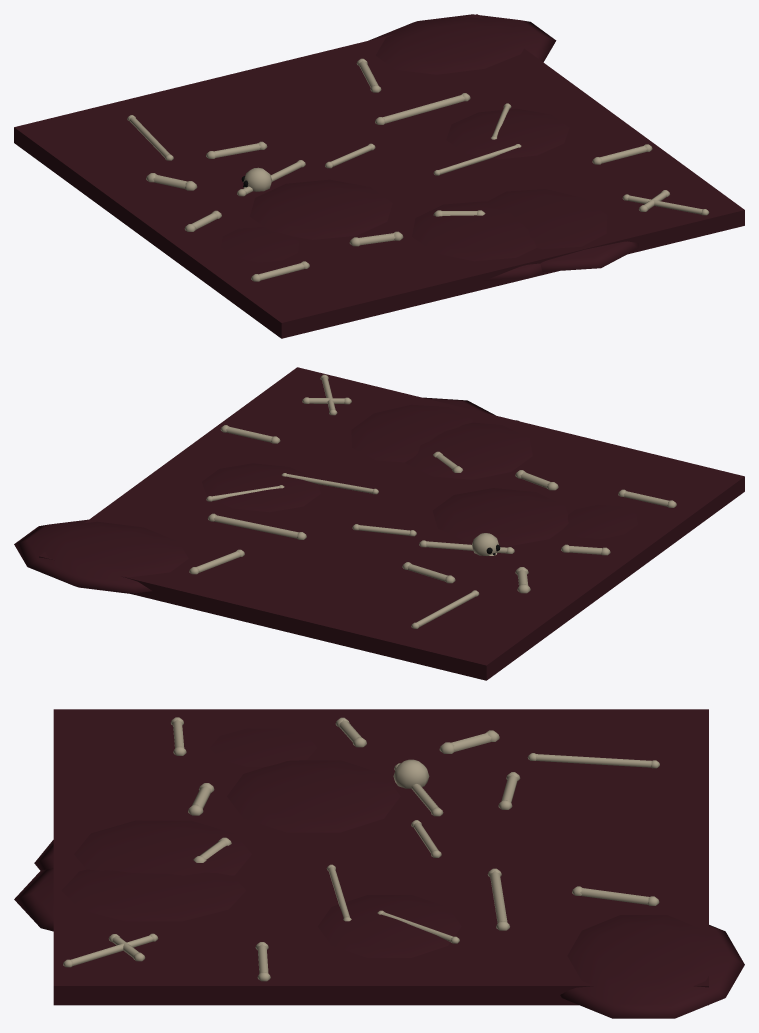
File: SM_Floor_Bone.fbx
3 renders of one model, top to bottom at view 1: azimuth 30°, elevation 25°; view 2: azimuth 150°, elevation 25°; view 3: azimuth 270°, elevation 25°, orthographic. The views are drawn at different scales.
Parts seen in each view (by area): view 1: SM_Floor_Bone; view 2: SM_Floor_Bone; view 3: SM_Floor_Bone.
Boxes of the visible parts, x1,y1,x2,y2 form: SM_Floor_Bone: (14,14,744,338); SM_Floor_Bone: (14,367,744,680); SM_Floor_Bone: (14,709,744,1018).
Size of what is drawn, in the model's own units: 4.34 by 0.2995 by 4.46.
